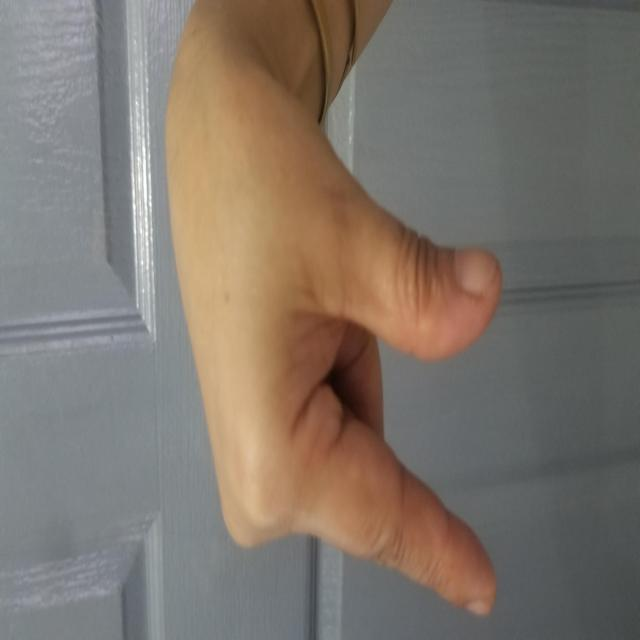Q: (148, 162, 597, 628)
